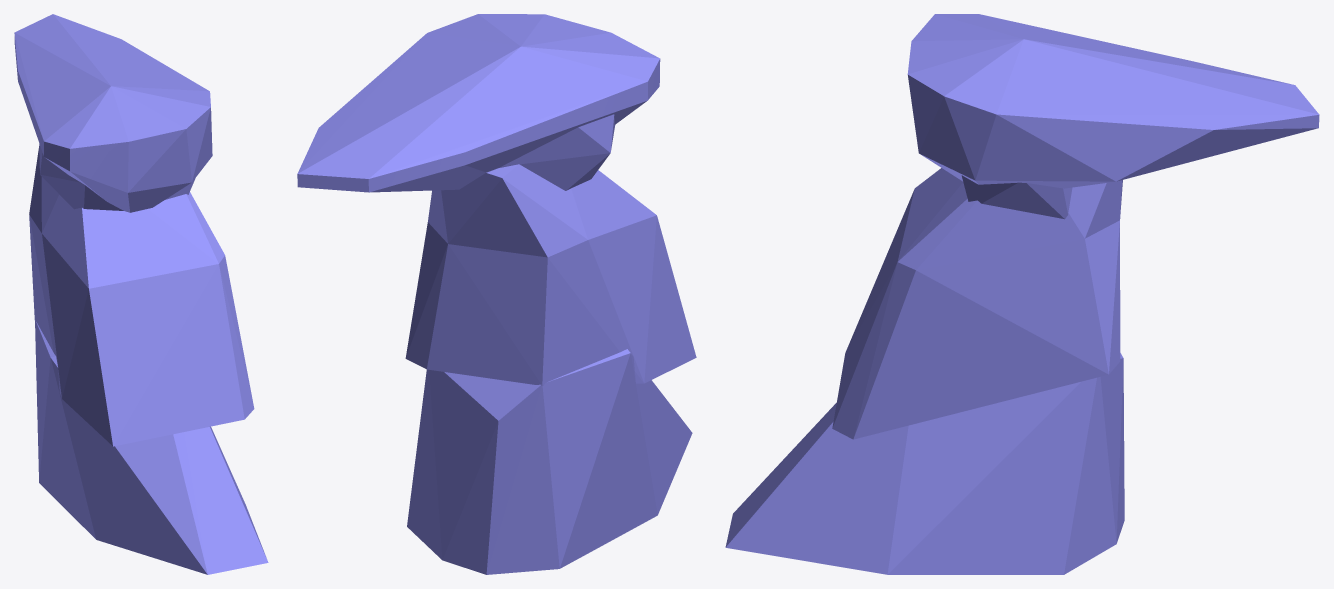
The model's file is Cliff_Spire_07_Taper_Collider_01.FBX.
The picture shows the model from 3 angles, left to right: view 1: azimuth 30°, elevation 25°; view 2: azimuth 150°, elevation 25°; view 3: azimuth 270°, elevation 25°; orthographic projection. The views are drawn at different scales.
Parts seen in each view (by area): view 1: COLLIDER2, COLLIDER3, COLLIDER1, COLLIDER4, COLLIDER5; view 2: COLLIDER1, COLLIDER3, COLLIDER2, COLLIDER4, COLLIDER5; view 3: COLLIDER1, COLLIDER3, COLLIDER2, COLLIDER4, COLLIDER5.
Part boxes in pixels (x1,y1,x2,y2): COLLIDER2: (29,215,254,446); COLLIDER3: (14,14,212,212); COLLIDER1: (35,320,268,574); COLLIDER4: (29,146,224,288); COLLIDER5: (39,144,195,210); COLLIDER1: (407,349,692,574); COLLIDER3: (297,14,660,192); COLLIDER2: (405,215,696,385); COLLIDER4: (428,164,656,257); COLLIDER5: (499,114,615,190); COLLIDER1: (725,353,1124,574); COLLIDER3: (907,14,1319,188); COLLIDER2: (832,189,1120,439); COLLIDER4: (897,168,1122,270); COLLIDER5: (961,175,1072,219).
Size of the model in its own units: 194 by 416 by 453.
